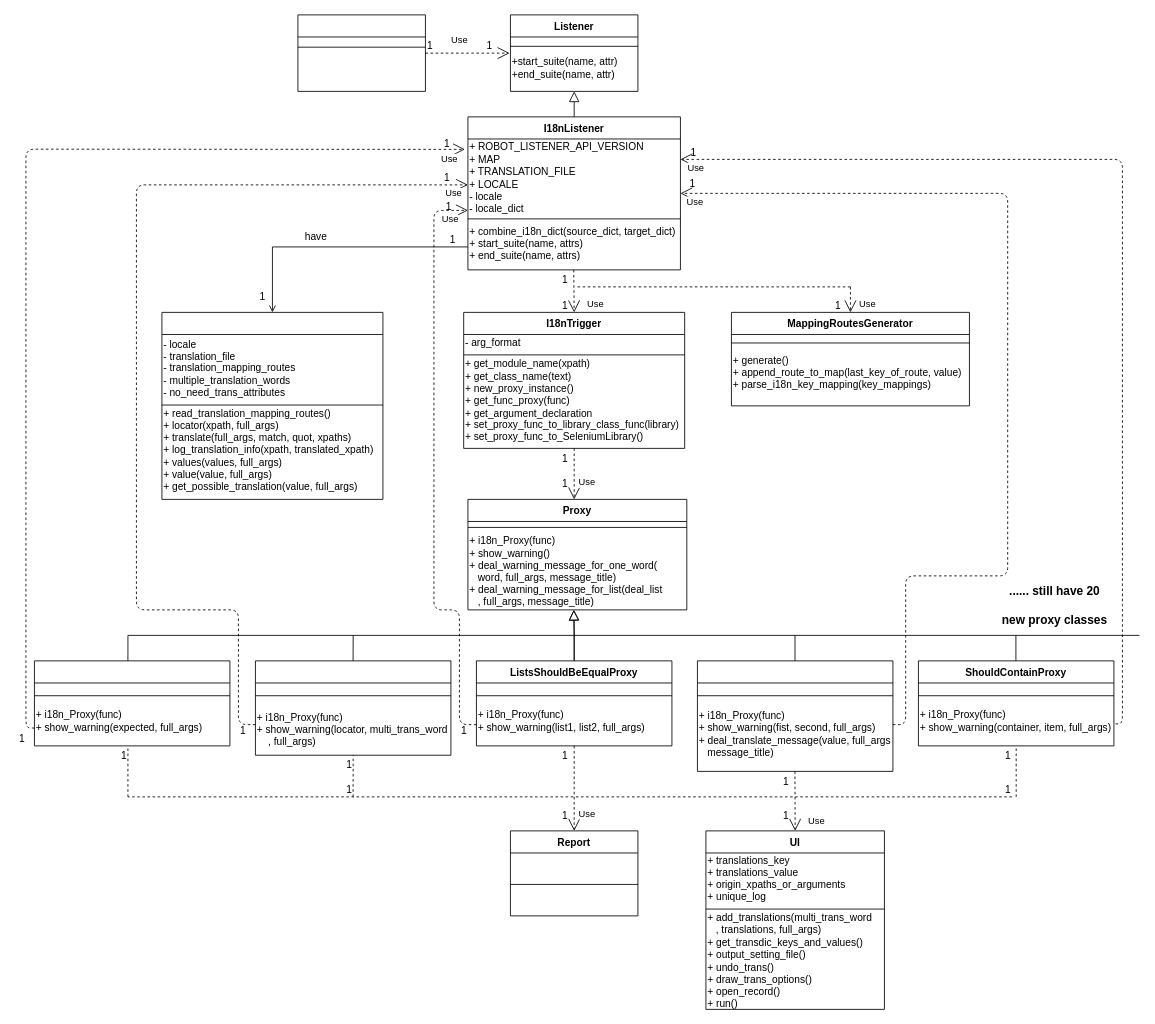
This 1155x1024 diagram has some shape labels left out. Here are the shapes that lost their labels. From the top down, the box of each, then its label:
(297, 14, 425, 91): RobotFramework
(161, 312, 383, 499): I18nMap
(34, 660, 230, 746): ElementTextShouldBeProxy
(255, 660, 451, 755): FindElementsProxy
(697, 660, 893, 771): ShouldBeEqualProxy
